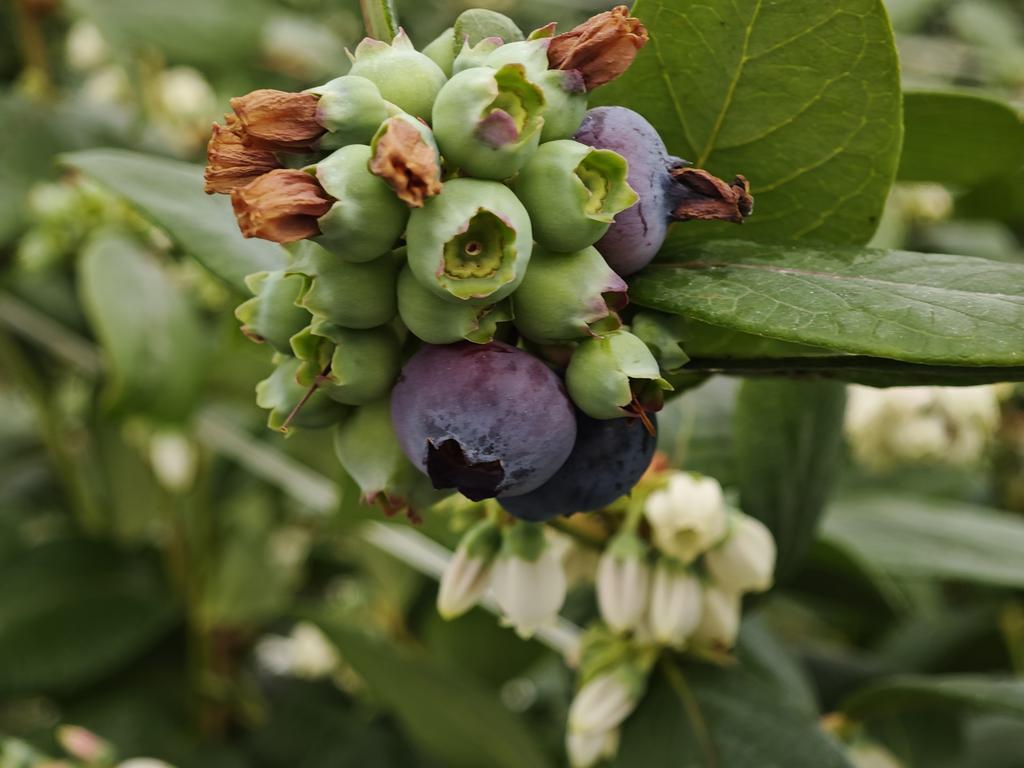RipeBlueBerry: (508, 410, 659, 518)
Semi-RipeBlueBerry: (395, 348, 579, 503), (582, 101, 684, 273)
UnripeBlueBerry: (406, 183, 536, 298), (435, 63, 548, 172), (306, 144, 406, 264), (523, 139, 624, 247)
